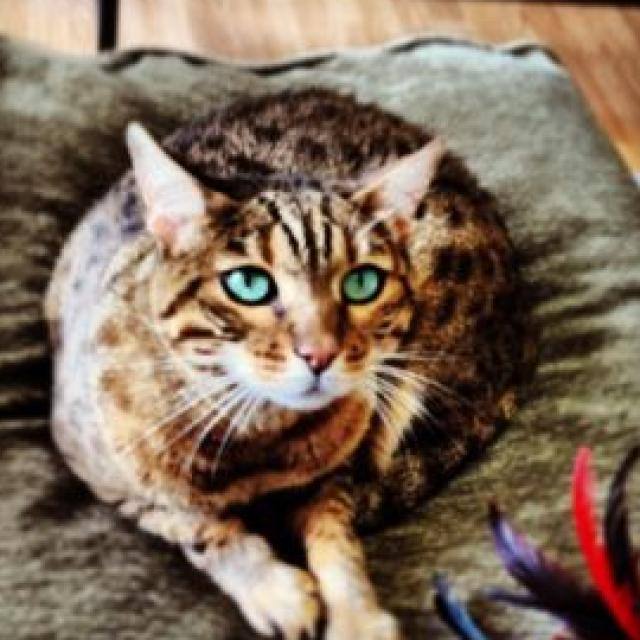Bengal: (31, 73, 545, 640)
